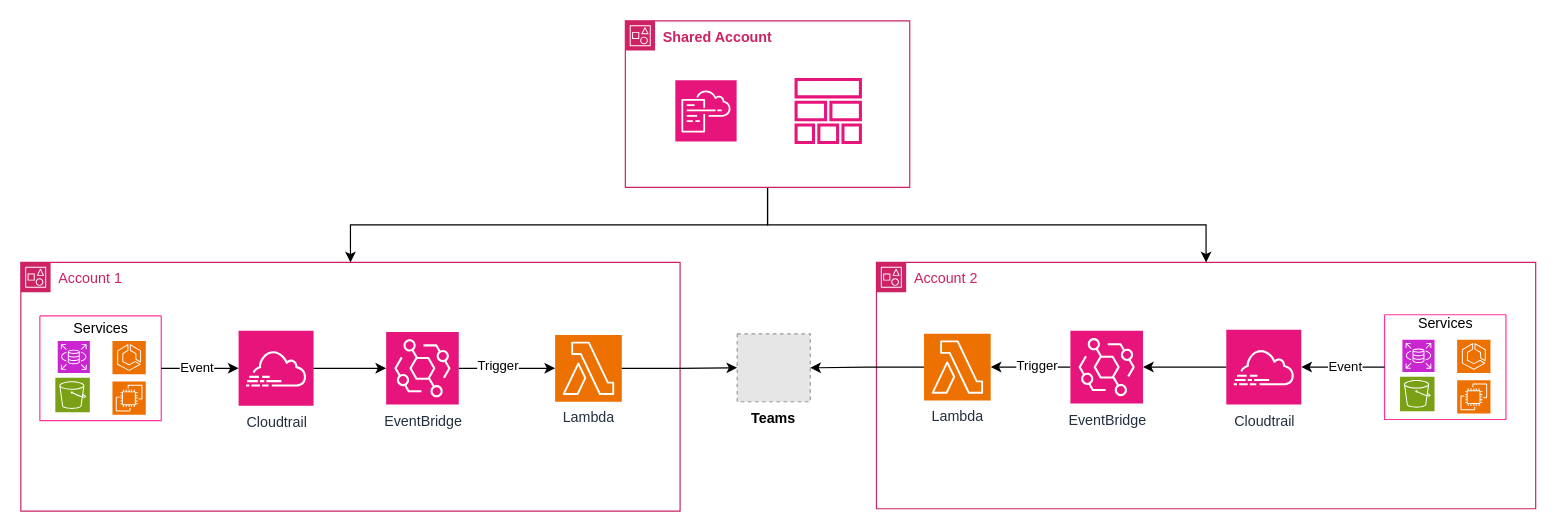
Some shapes in this 1557 by 532 pixel diagram are drawn without their labels. Grey dashed boxes stand in for pictures. Each missing label, with the box of its shape:
Cloudformation: (674, 79, 737, 142)
StackSet: (794, 77, 862, 143)
